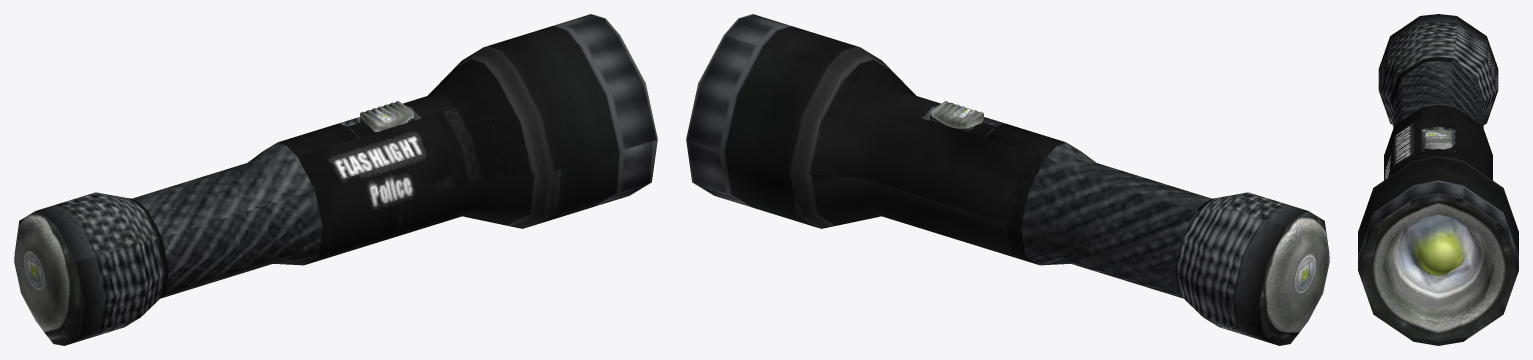
The model's file is FlashLight.fbx.
3 renders of one model, left to right at view 1: azimuth 30°, elevation 25°; view 2: azimuth 150°, elevation 25°; view 3: azimuth 270°, elevation 25°, orthographic. The views are drawn at different scales.
Visible parts, largest first — view 1: Body, Button; view 2: Body, Button; view 3: Body, Button.
Boxes of the visible parts, x1,y1,x2,y2 form: Body: (14,14,657,345); Button: (360,101,414,132); Body: (686,14,1329,345); Button: (929,101,983,132); Body: (1358,14,1518,345); Button: (1424,130,1452,151).
Size of the model in its own units: 1365 by 429 by 385.
